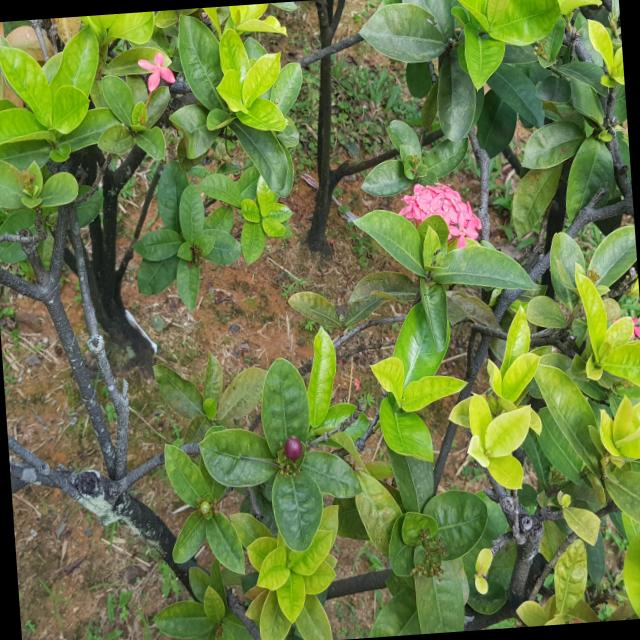Chinese-Ixora: (394, 176, 484, 254), (135, 49, 179, 97), (630, 314, 640, 340)
